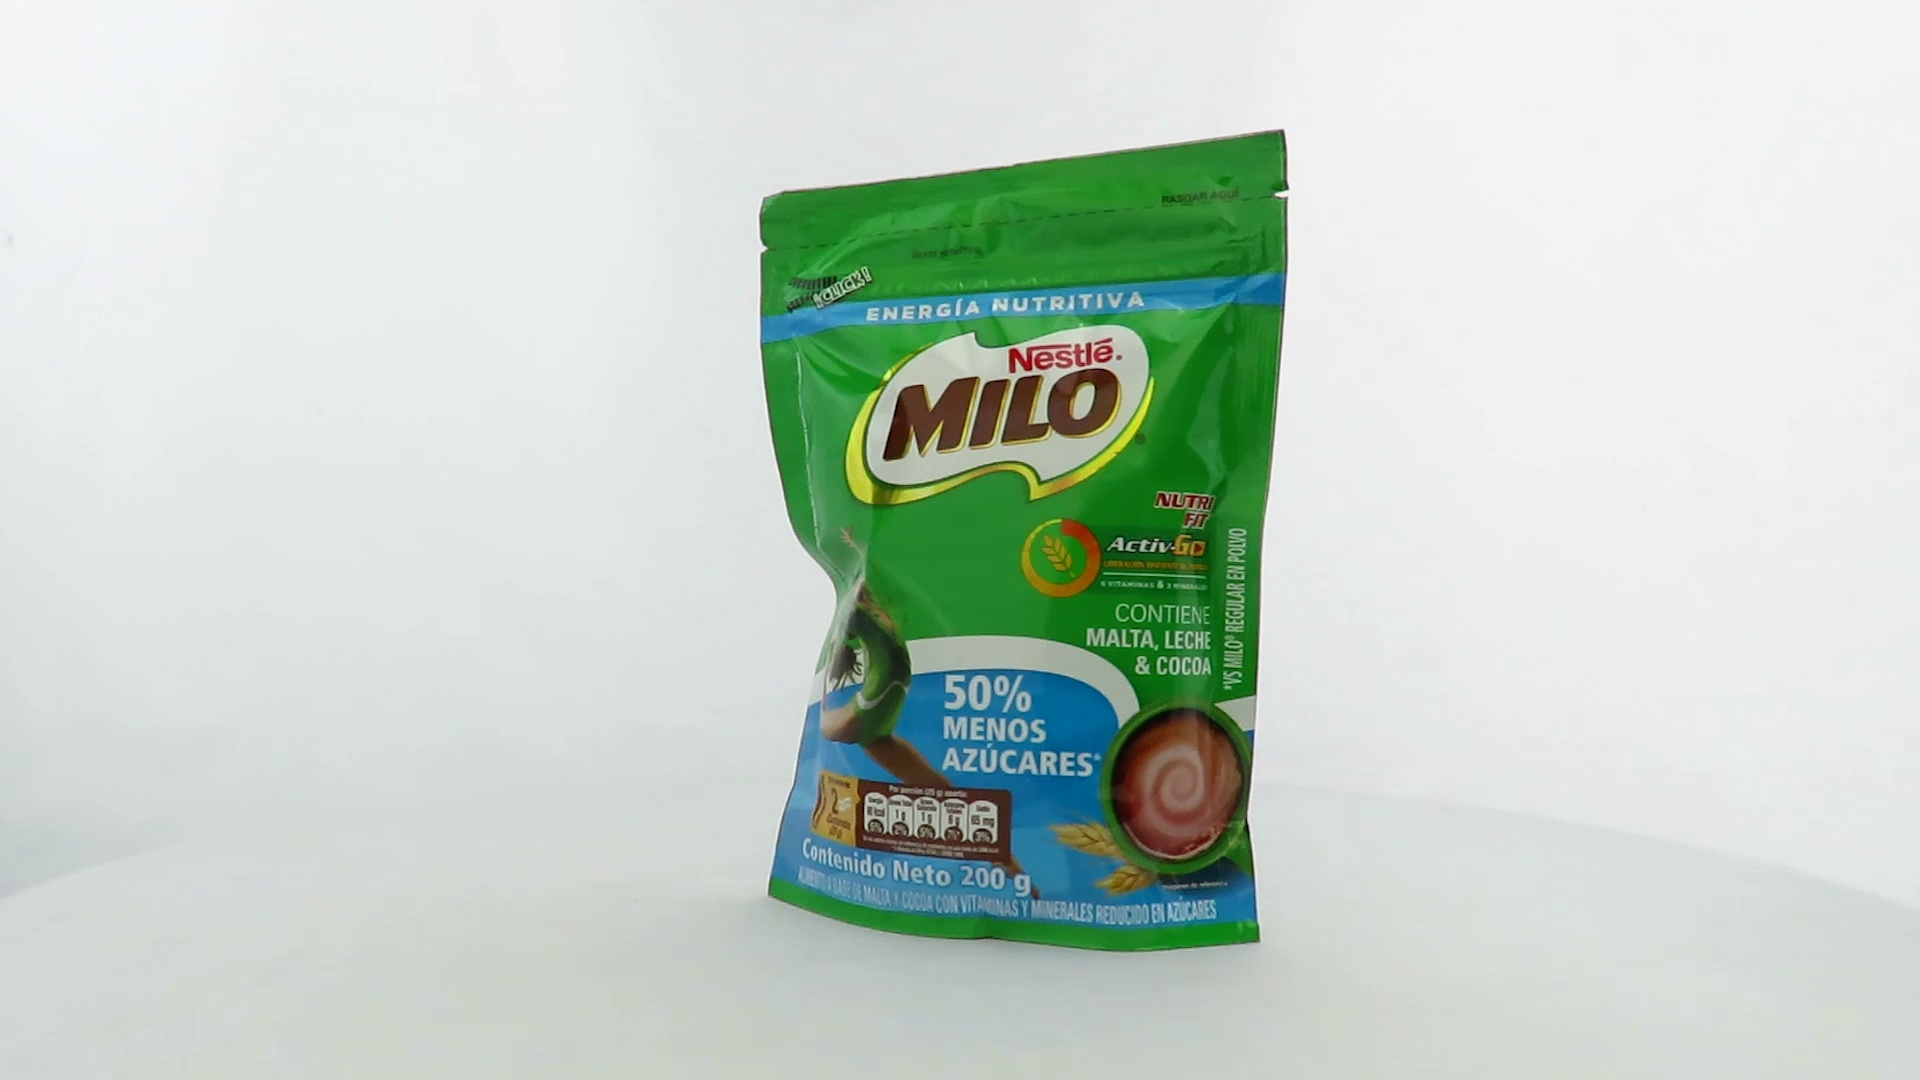COL0170205DYP20000: (754, 124, 1295, 959)
